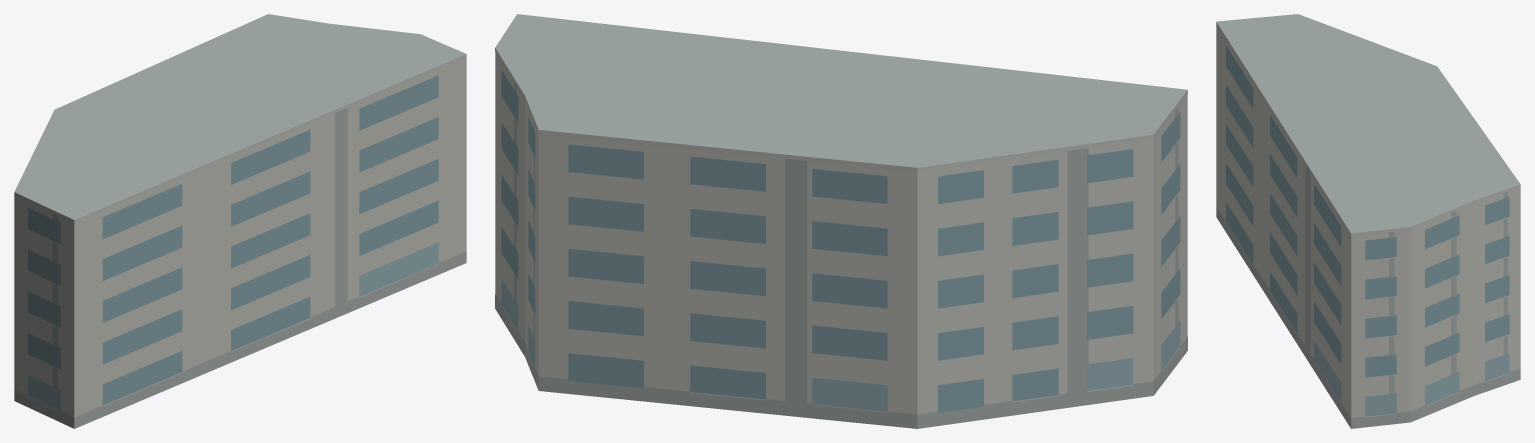
File: residential-08f04809-22d9-4b9c-b919-972f0ecd72b3.glb
3 renders of one model, left to right at view 1: azimuth 30°, elevation 25°; view 2: azimuth 150°, elevation 25°; view 3: azimuth 270°, elevation 25°, orthographic. The views are drawn at different scales.
Parts seen in each view (by area): view 1: residential-08f04809-22d9-4b9c-b919-972f0ecd72b3.tmp; view 2: residential-08f04809-22d9-4b9c-b919-972f0ecd72b3.tmp; view 3: residential-08f04809-22d9-4b9c-b919-972f0ecd72b3.tmp.
Boxes of the visible parts, box(x1,y1,x2,y2) form: residential-08f04809-22d9-4b9c-b919-972f0ecd72b3.tmp: box(14, 14, 466, 428); residential-08f04809-22d9-4b9c-b919-972f0ecd72b3.tmp: box(495, 14, 1187, 428); residential-08f04809-22d9-4b9c-b919-972f0ecd72b3.tmp: box(1216, 14, 1520, 428).
Bounding box in the file's own units: 36.75 × 15.25 × 21.54.
